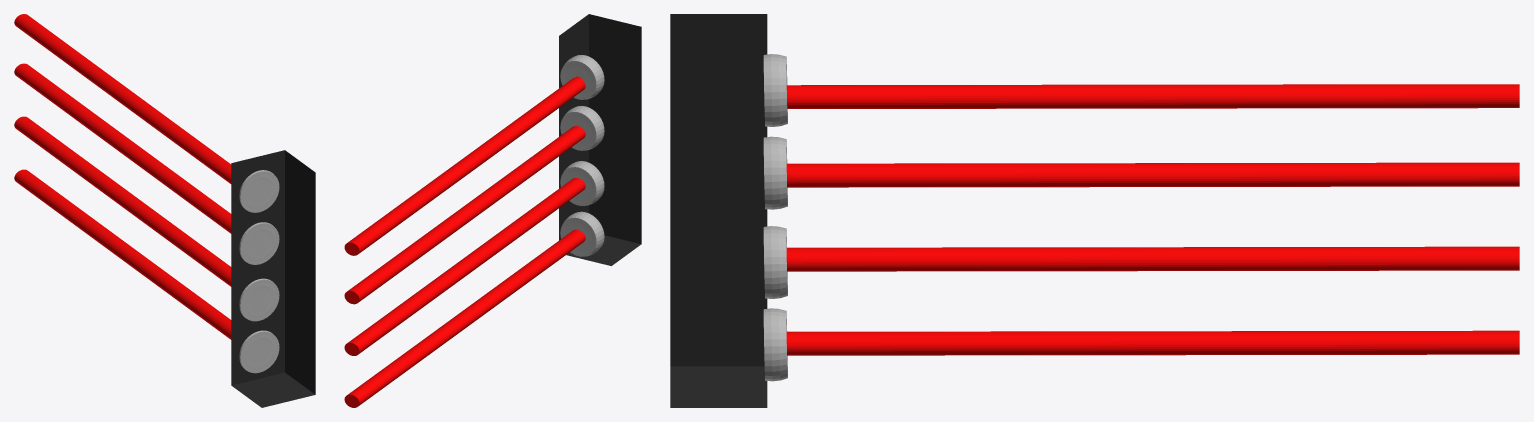
The model's file is lasertrue.fbx.
3 views of the same model, side by side, from view 1: azimuth 30°, elevation 25°; view 2: azimuth 150°, elevation 25°; view 3: azimuth 270°, elevation 25° (orthographic). The views are drawn at different scales.
Parts seen in each view (by area): view 1: Cylinder; view 2: Cylinder; view 3: Cylinder.
Part boxes in pixels (<box>): Cylinder: <box>14,14,315,407</box>; Cylinder: <box>344,14,641,407</box>; Cylinder: <box>670,14,1519,407</box>.
Bounding box in the file's own units: 16.98 × 67.17 × 147.
Materials: 9 (9 with a texture image).
